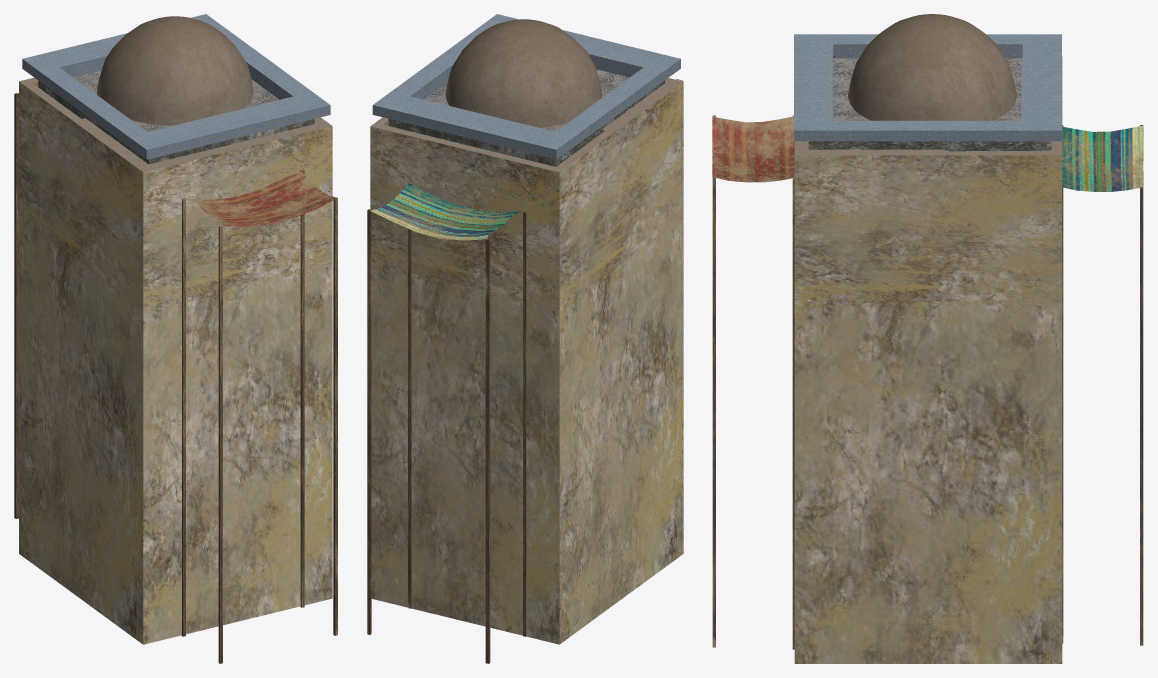
The model's file is medina_cityscape_daar_04_4.gltf.
3 renders of one model, left to right at view 1: azimuth 30°, elevation 25°; view 2: azimuth 150°, elevation 25°; view 3: azimuth 270°, elevation 25°, orthographic. The views are drawn at different scales.
Visible parts, largest first — view 1: medina_cityscape_daar_04_4; view 2: medina_cityscape_daar_04_4; view 3: medina_cityscape_daar_04_4.
Part boxes in pixels (bbox=[...]): medina_cityscape_daar_04_4: bbox=[14, 14, 337, 663]; medina_cityscape_daar_04_4: bbox=[367, 14, 683, 663]; medina_cityscape_daar_04_4: bbox=[712, 14, 1143, 663].
Bounding box in the file's own units: 3.14 × 8.73 × 5.76.
5 materials, 5 textured.
